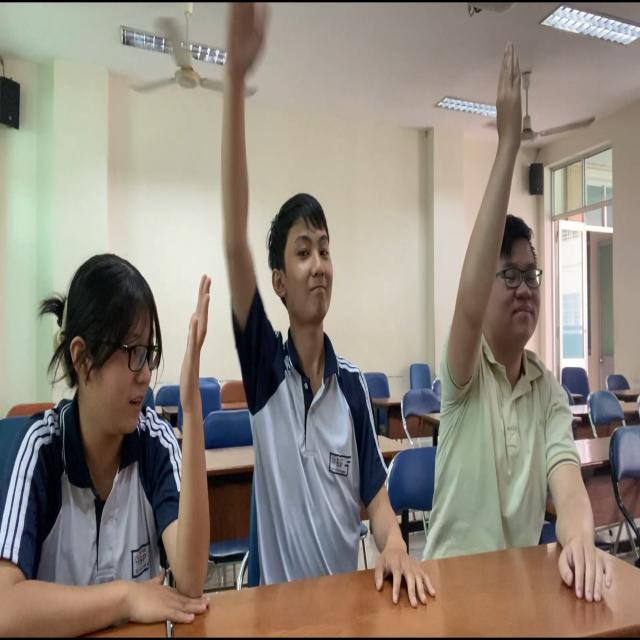raise_hand: (433, 27, 638, 640), (5, 180, 246, 640)
